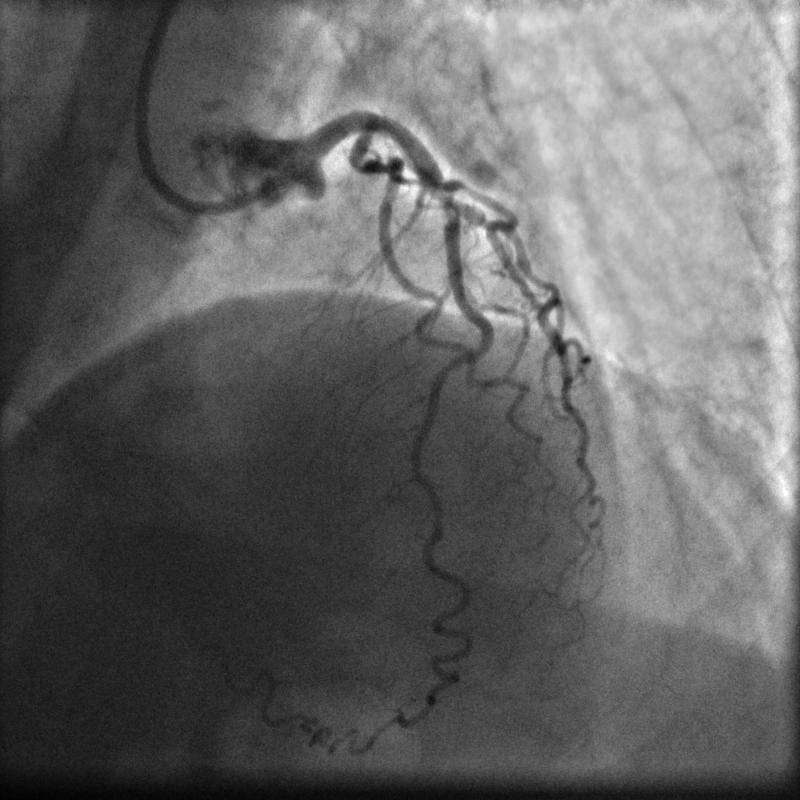Stenosis: (426, 182, 461, 209)
